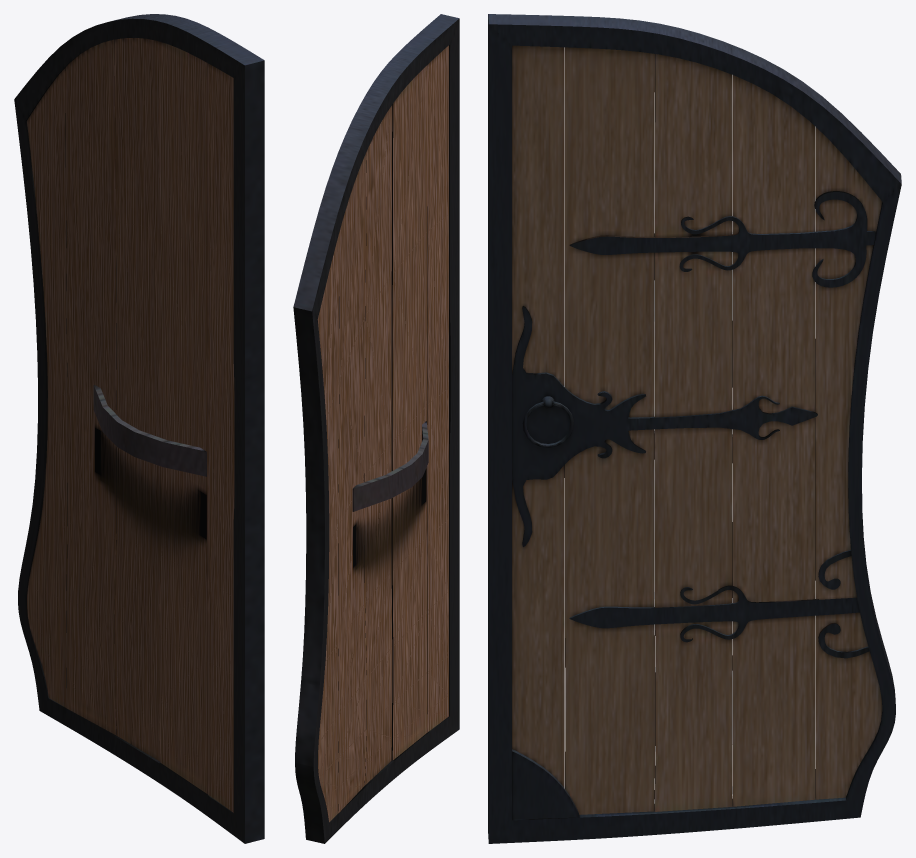
File: giantdoorshieldl.obj
The picture shows the model from 3 angles, left to right: view 1: azimuth 30°, elevation 25°; view 2: azimuth 150°, elevation 25°; view 3: azimuth 270°, elevation 25°; orthographic projection. The views are drawn at different scales.
Parts seen in each view (by area): view 1: shield_final.001; view 2: shield_final.001; view 3: shield_final.001.
Part boxes in pixels (bbox=[...]): shield_final.001: bbox=[14, 14, 264, 843]; shield_final.001: bbox=[293, 14, 459, 843]; shield_final.001: bbox=[488, 14, 901, 843].
Size of the model in its own units: 0.2998 by 3.75 by 1.71.
